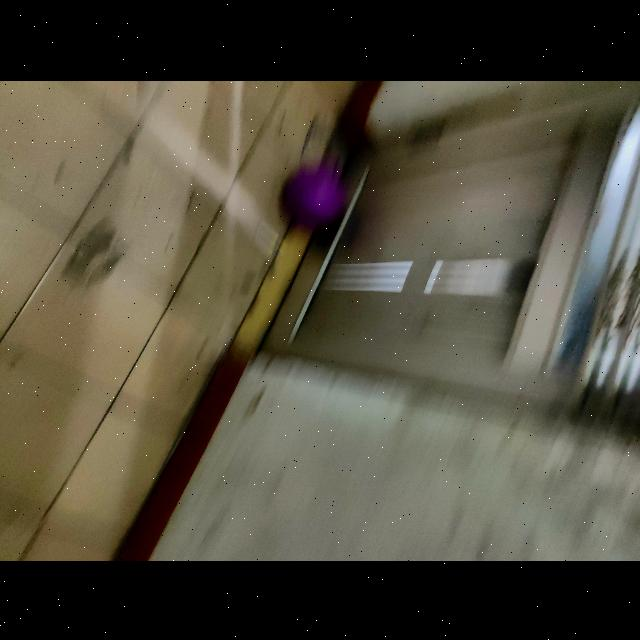P: (281, 162, 349, 232)
